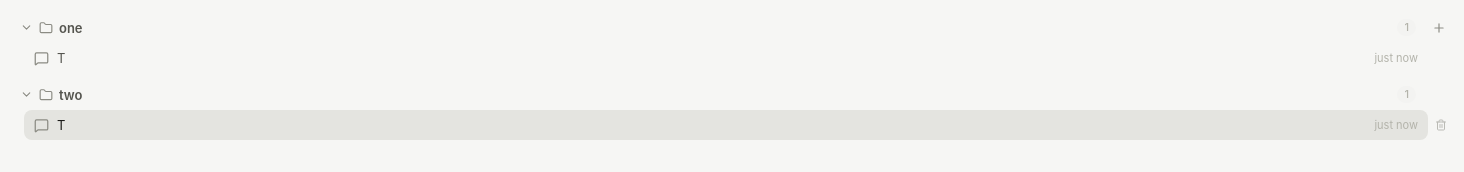
it: workspace groups › collapses a group and re-expands it when it becomes active
Click the button with class "ws-group-toggle" showing "one 1" at (26, 28), box [12,12,1424,43]
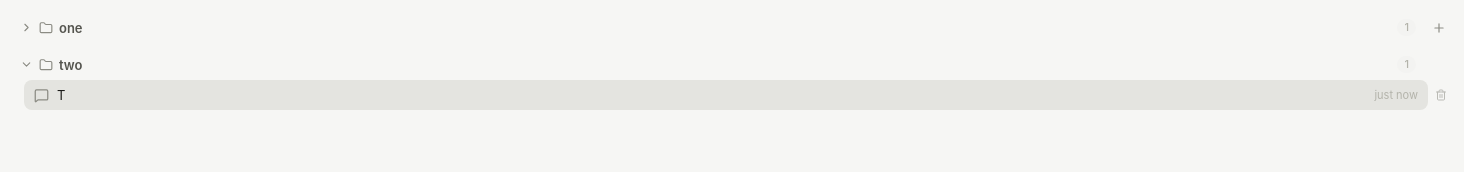
Expected: the number of elements with class "ws-sessions" is 1, [12,80,1452,110]
